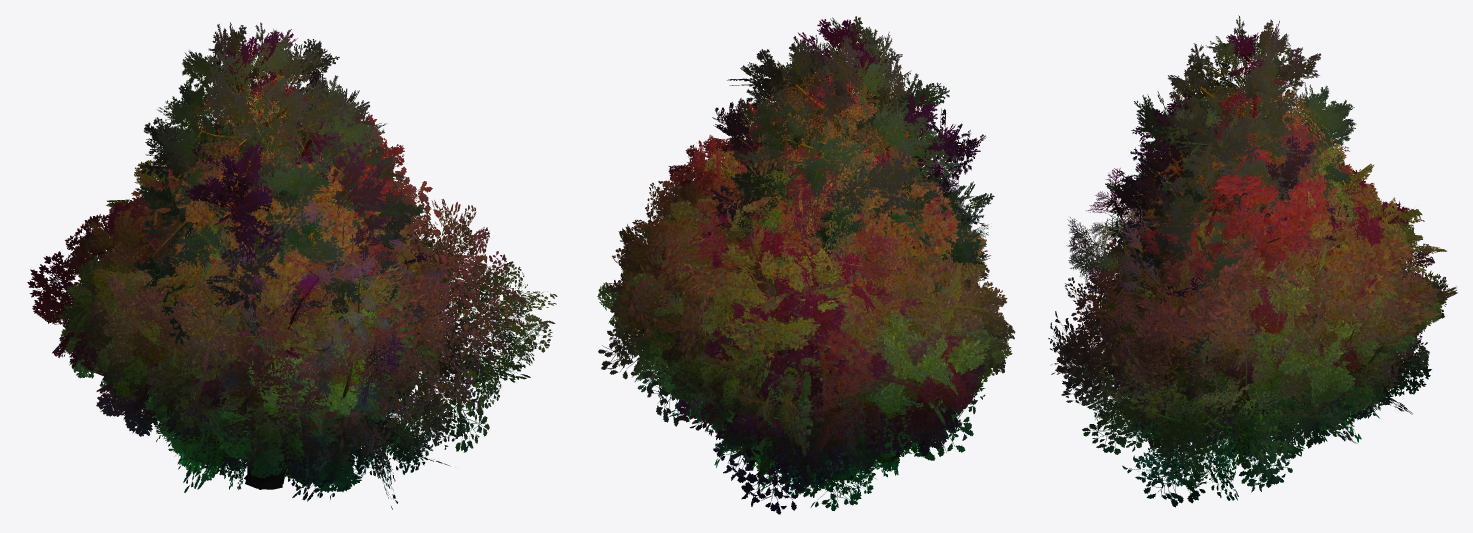
The model's file is trees_a.glb.
The picture shows the model from 3 angles, left to right: view 1: azimuth 30°, elevation 25°; view 2: azimuth 150°, elevation 25°; view 3: azimuth 270°, elevation 25°; orthographic projection. The views are drawn at different scales.
Parts seen in each view (by area): view 1: a_oak_h@0|leaf_3, a_oak_h@1|leaf_3, tr_pine_b@0|leaf_12, a_oak_h@2|leaf_3, a_oak@2|leaf_1, a_maple@0|leaf_7, tr_pine_b@2|leaf_12, a_oak@0|leaf_1, tr_pine_b@1|leaf_12, a_maple@2|leaf_7, tr_pine@0|leaf_12, a_oak@1|leaf_1 (+14 smaller); view 2: a_oak@0|leaf_1, a_maple@0|leaf_7, a_maple@2|leaf_7, tr_pine_b@0|leaf_12, a_maple@1|leaf_7, a_oak@1|leaf_1, tr_pine_b@1|leaf_12, tr_pine_b@2|leaf_12, a_oak@2|leaf_1, a_oak_h@0|leaf_3, a_oak_h@2|leaf_3, a_birch@0|leaf_9 (+7 smaller); view 3: a_oak_h@0|leaf_3, a_oak_h@2|leaf_3, a_oak_h@1|leaf_3, a_maple@0|leaf_7, a_oak@0|leaf_1, tr_pine_b@0|leaf_12, a_maple@2|leaf_7, a_maple@1|leaf_7, a_oak@2|leaf_1, tr_pine@0|leaf_12, tr_pine_b@1|leaf_12, tr_pine_b@2|leaf_12 (+10 smaller).
Part boxes in pixels (x1,y1,x2,y2): a_oak_h@0|leaf_3: [141, 181, 557, 484]; a_oak_h@1|leaf_3: [150, 184, 556, 494]; tr_pine_b@0|leaf_12: [134, 22, 369, 331]; a_oak_h@2|leaf_3: [163, 166, 555, 509]; a_oak@2|leaf_1: [58, 180, 453, 486]; a_maple@0|leaf_7: [32, 119, 441, 464]; tr_pine_b@2|leaf_12: [140, 22, 371, 344]; a_oak@0|leaf_1: [64, 146, 449, 492]; tr_pine_b@1|leaf_12: [133, 25, 368, 332]; a_maple@2|leaf_7: [27, 111, 447, 459]; tr_pine@0|leaf_12: [205, 87, 426, 345]; a_oak@1|leaf_1: [66, 159, 449, 491]; a_oak@0|leaf_1: [597, 160, 1015, 486]; a_maple@0|leaf_7: [614, 104, 994, 474]; a_maple@2|leaf_7: [615, 100, 985, 489]; tr_pine_b@0|leaf_12: [712, 17, 993, 277]; a_maple@1|leaf_7: [619, 105, 991, 474]; a_oak@1|leaf_1: [603, 163, 1014, 489]; tr_pine_b@1|leaf_12: [715, 16, 994, 270]; tr_pine_b@2|leaf_12: [731, 29, 983, 288]; a_oak@2|leaf_1: [636, 190, 1012, 474]; a_oak_h@0|leaf_3: [605, 174, 988, 496]; a_oak_h@2|leaf_3: [598, 173, 993, 514]; a_birch@0|leaf_9: [721, 71, 948, 462]; a_oak_h@0|leaf_3: [1048, 203, 1428, 486]; a_oak_h@2|leaf_3: [1054, 201, 1422, 507]; a_oak_h@1|leaf_3: [1050, 205, 1421, 488]; a_maple@0|leaf_7: [1107, 116, 1457, 428]; a_oak@0|leaf_1: [1108, 178, 1415, 442]; tr_pine_b@0|leaf_12: [1131, 21, 1356, 222]; a_maple@2|leaf_7: [1107, 120, 1448, 453]; a_maple@1|leaf_7: [1108, 117, 1456, 443]; a_oak@2|leaf_1: [1112, 186, 1394, 437]; tr_pine@0|leaf_12: [1105, 93, 1348, 363]; tr_pine_b@1|leaf_12: [1137, 19, 1355, 216]; tr_pine_b@2|leaf_12: [1130, 15, 1353, 239].
Size of the model in its own units: 13.92 by 14.5 by 12.92.
15 materials, 15 textured.
